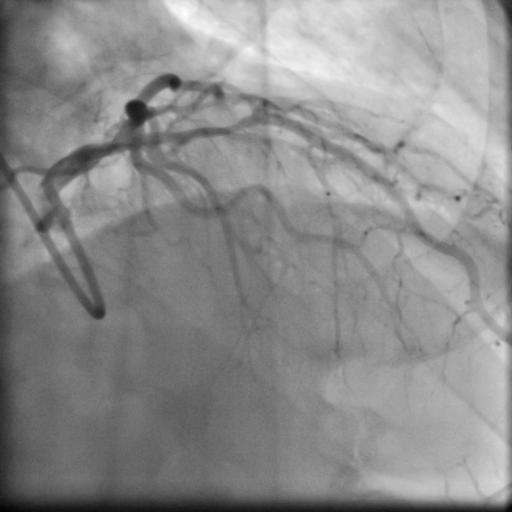Stenosis: (166, 124, 234, 141)
